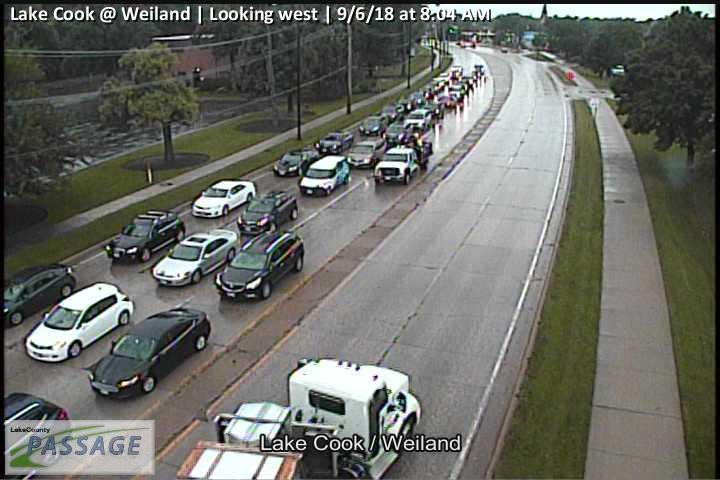SUV: (26, 282, 134, 361), (1, 392, 75, 480), (217, 231, 304, 300), (2, 263, 76, 325), (105, 209, 184, 262), (237, 191, 297, 230), (300, 154, 350, 194), (374, 146, 418, 185), (347, 135, 387, 169), (315, 130, 353, 157), (384, 122, 412, 145), (358, 113, 387, 135), (404, 108, 432, 128)
Sedan: (91, 308, 210, 399), (151, 226, 238, 286), (192, 178, 256, 218), (274, 148, 319, 176)
Truck: (178, 357, 421, 480)
